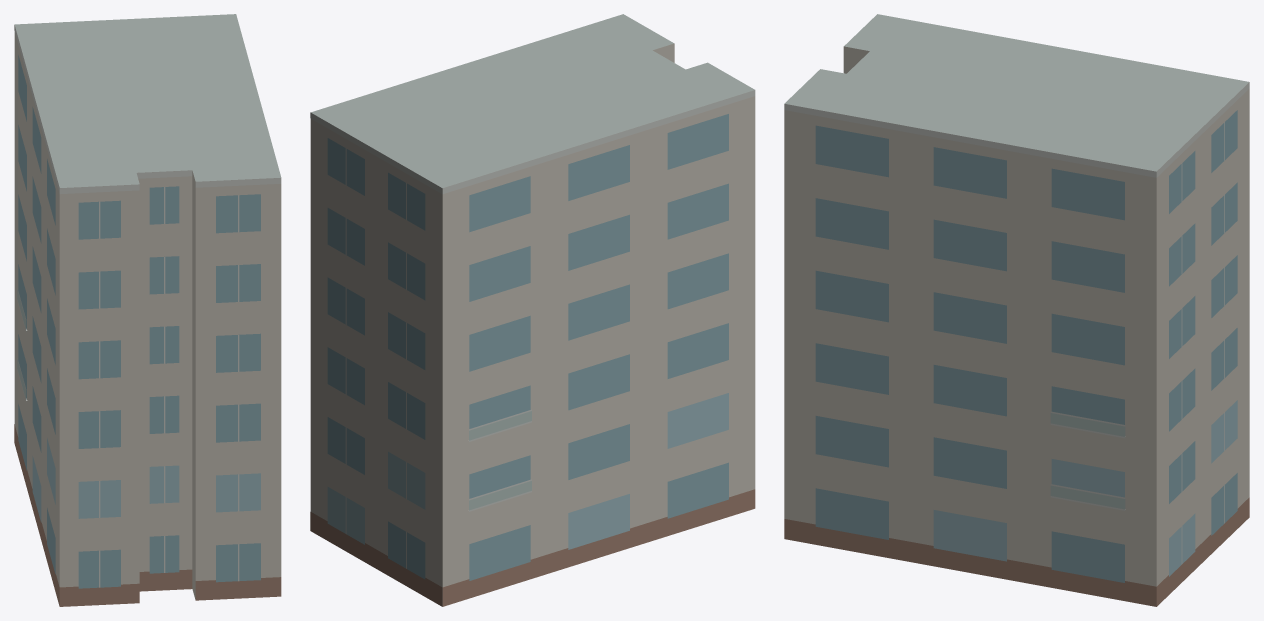
The model's file is survey-upis-32523471.glb.
3 renders of one model, left to right at view 1: azimuth 30°, elevation 25°; view 2: azimuth 150°, elevation 25°; view 3: azimuth 270°, elevation 25°, orthographic. The views are drawn at different scales.
Parts seen in each view (by area): view 1: survey-upis-32523471.tmp; view 2: survey-upis-32523471.tmp; view 3: survey-upis-32523471.tmp.
Part boxes in pixels (box(x1,y1,x2,y2)): survey-upis-32523471.tmp: box(14, 14, 281, 606); survey-upis-32523471.tmp: box(310, 14, 755, 606); survey-upis-32523471.tmp: box(784, 14, 1249, 606).
Size of the model in its own units: 13.09 by 16.85 by 16.34.
